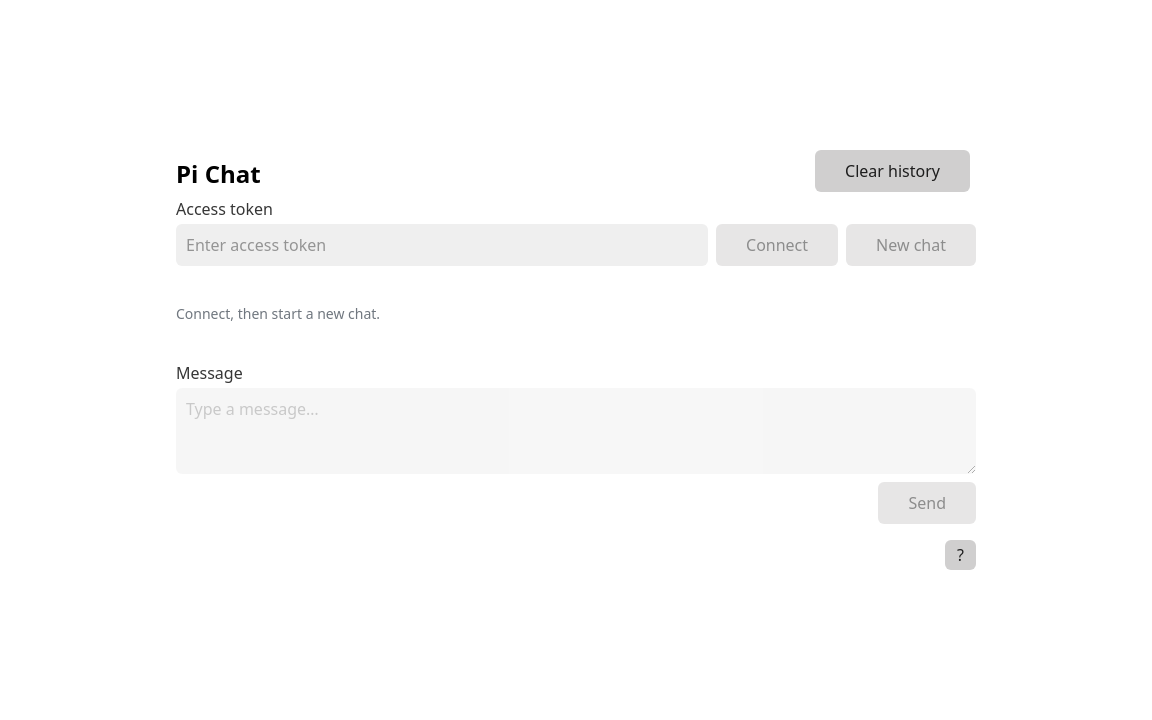
Svelte live chat › renders two contextual rounds safely and freezes earlier output without invoking worker
Type "private-token" into the password field labelled "Access token".
click(442, 245); type("private-token")  # box 176,224 -> 708,266
Click the button "Connect".
click(777, 245)  # box 716,224 -> 838,266
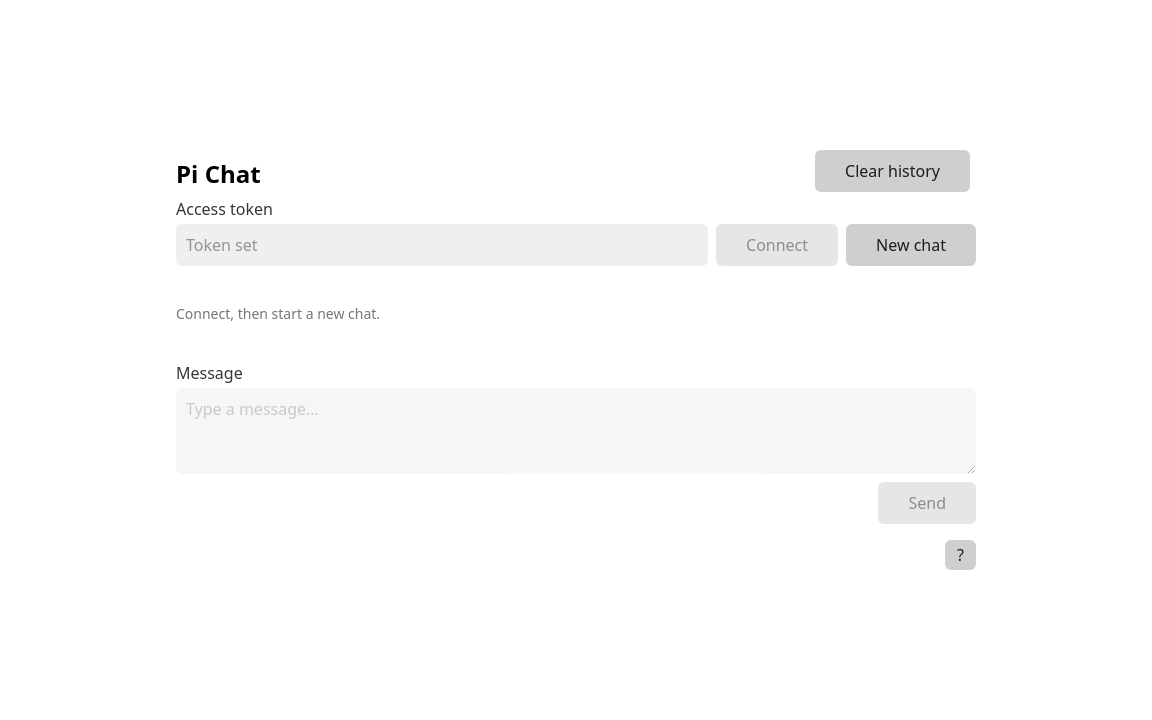
Click the button "New chat".
click(911, 245)  # box 846,224 -> 976,266
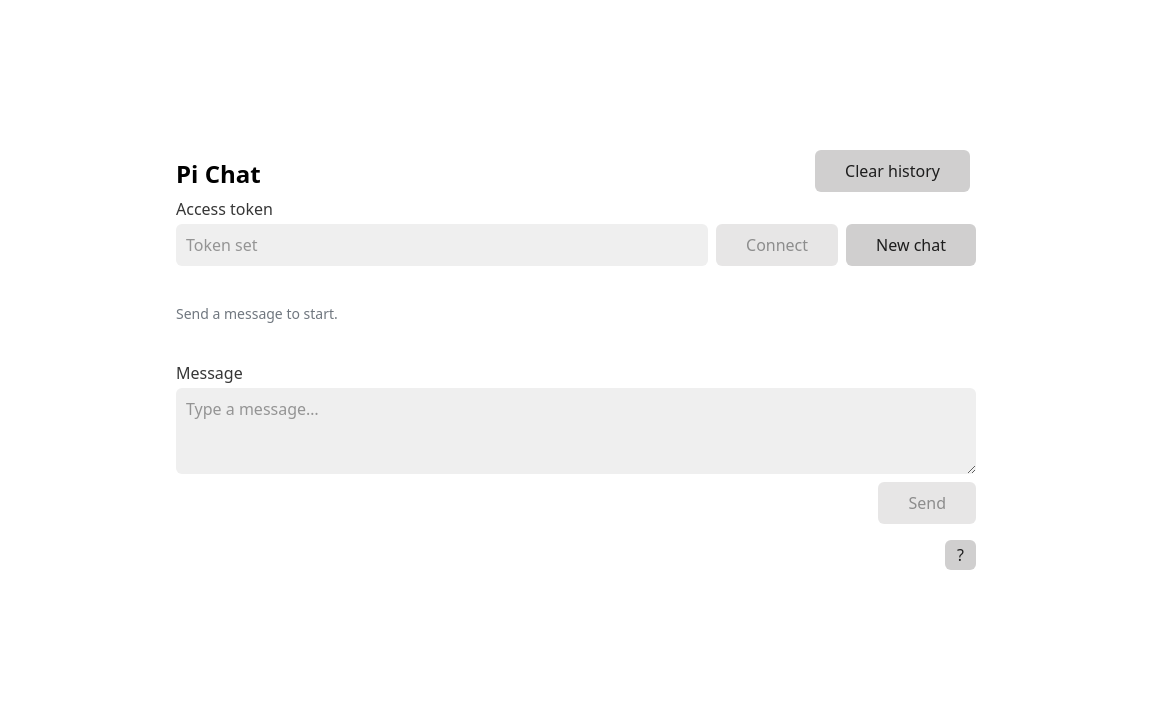
Expected: the text box labelled "Message" is enabled
Type "first question" into the text box labelled "Message".
click(576, 431); type("first question")  # box 176,388 -> 976,474
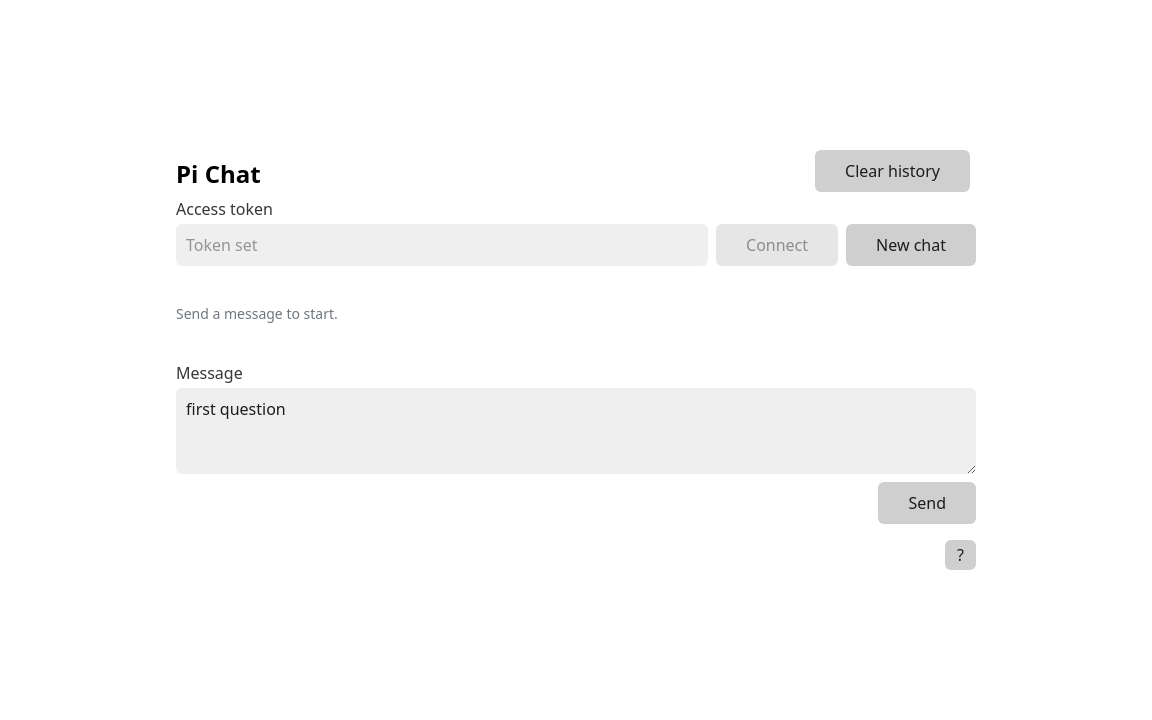
Click the button "Send".
click(927, 503)  # box 878,482 -> 976,524
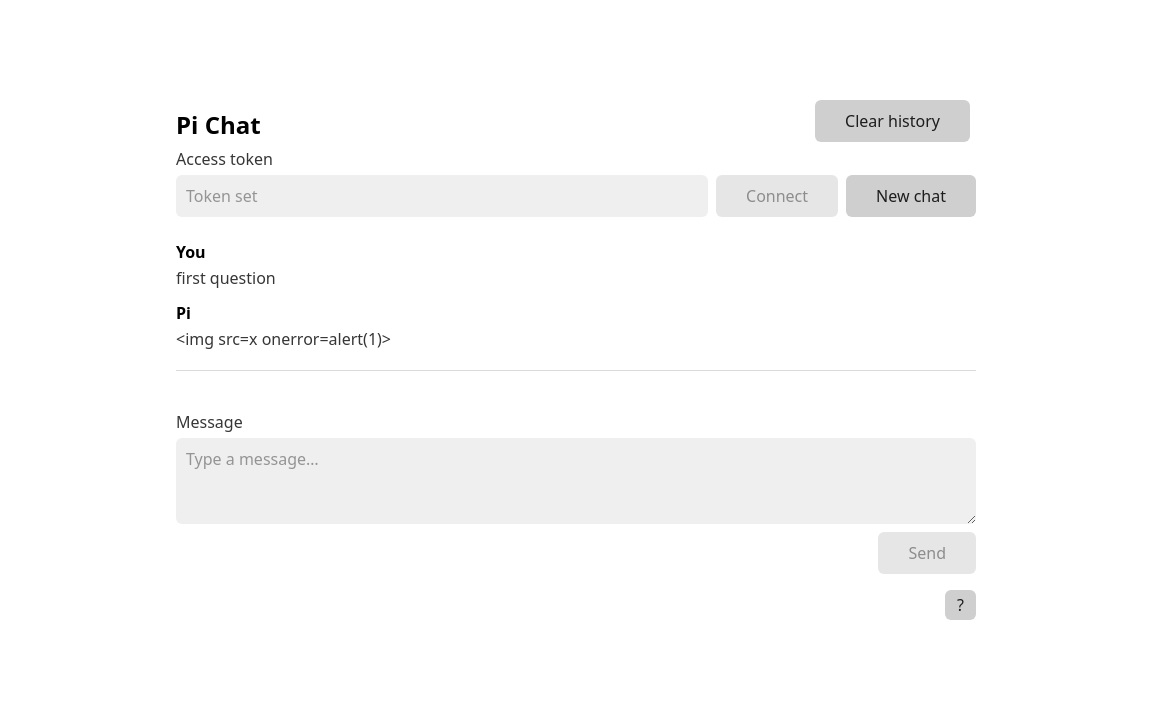
Expected: the text box labelled "Message" is enabled
Expected: the text "<img src=x onerror=alert(1)>" is shown, 176,328 -> 391,350
Type "second question" into the text box labelled "Message".
click(576, 481); type("second question")  # box 176,438 -> 976,524
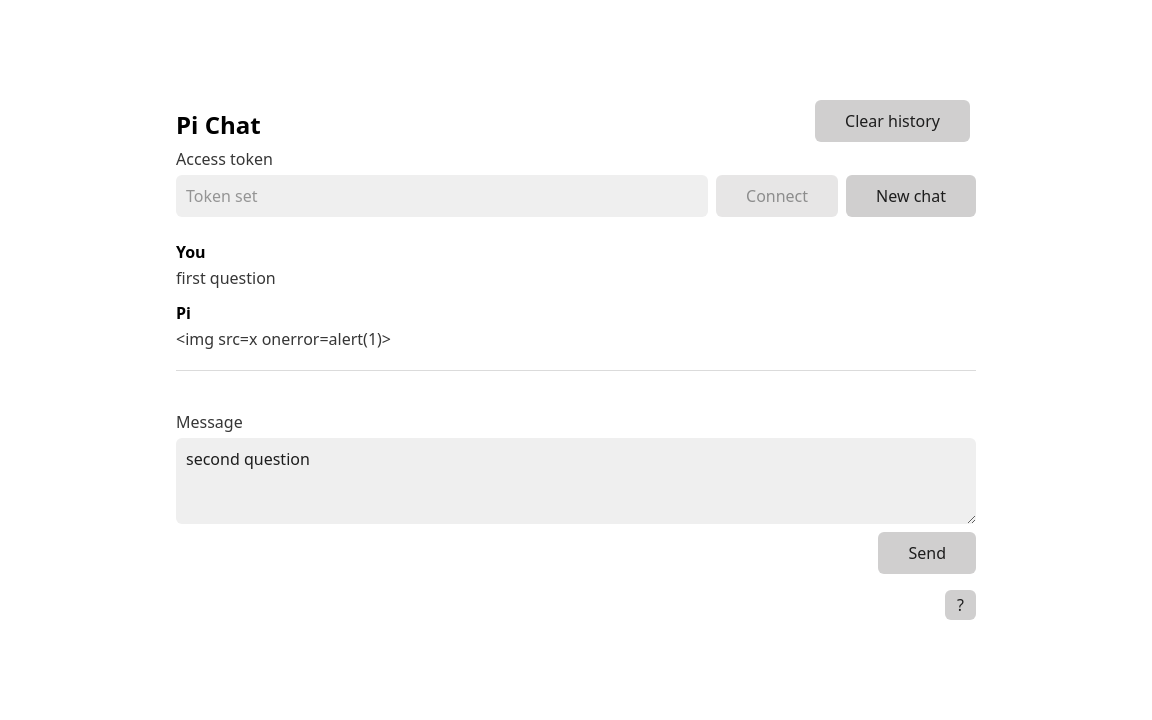
Click the button "Send".
click(927, 553)  # box 878,532 -> 976,574
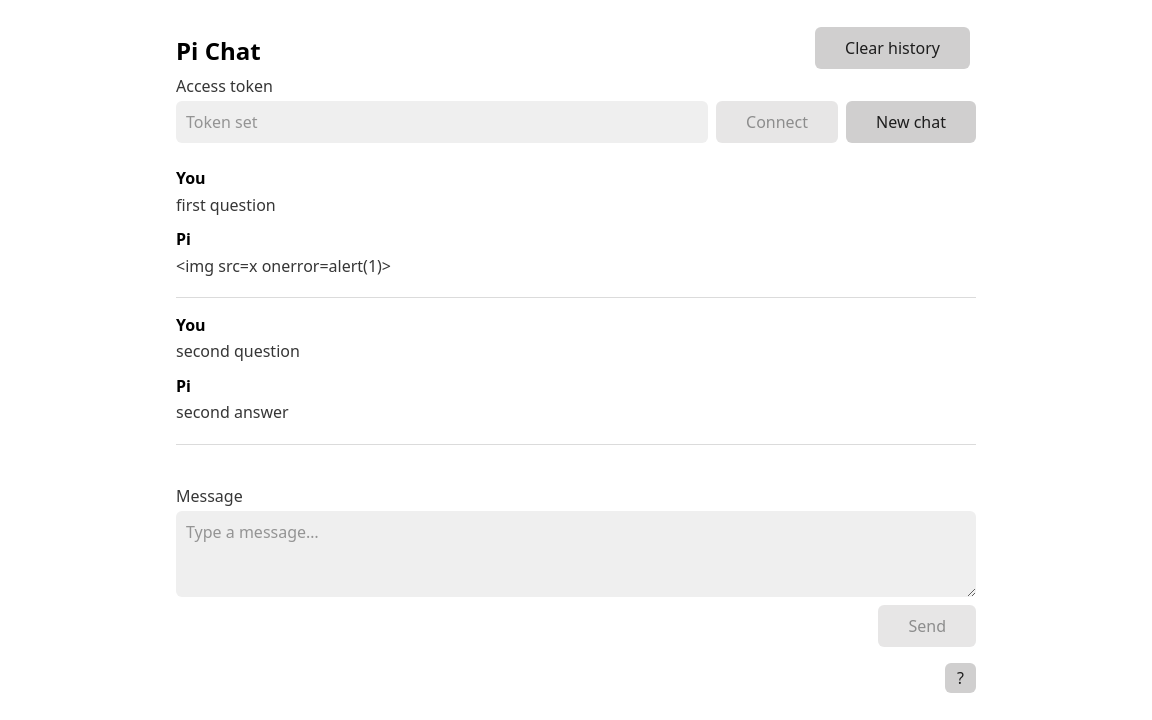
Expected: the text "<img src=x onerror=alert(1)>" is shown, 176,255 -> 391,277
Expected: the text "second answer" is shown, 176,401 -> 289,423
